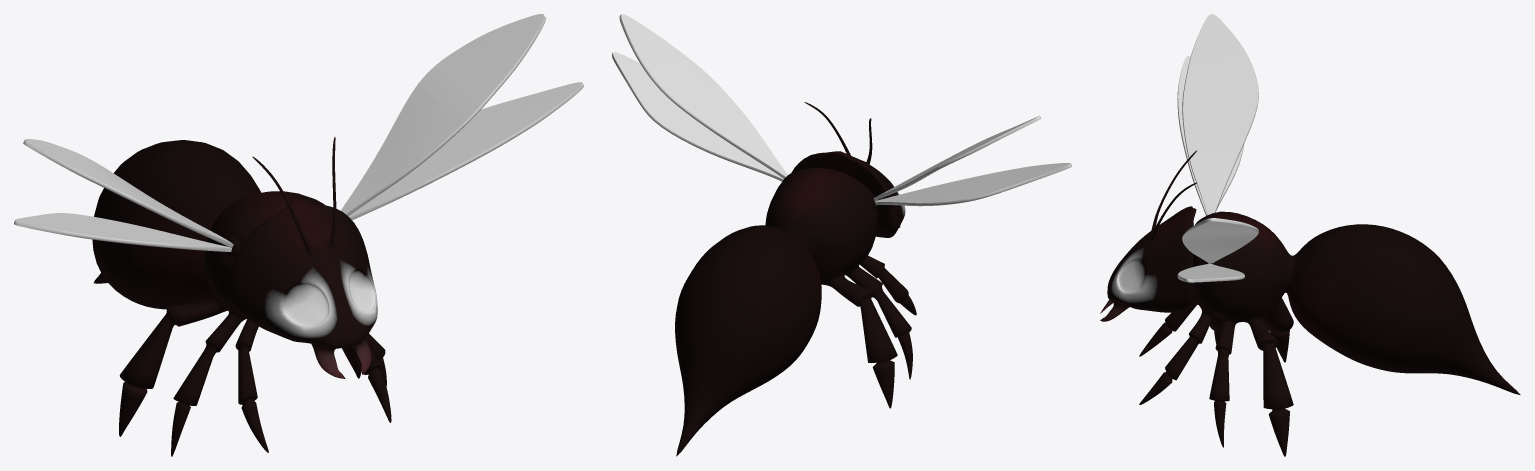
The model's file is Bee_Smol_hp.fbx.
3 views of the same model, side by side, from view 1: azimuth 30°, elevation 25°; view 2: azimuth 150°, elevation 25°; view 3: azimuth 270°, elevation 25° (orthographic). The views are drawn at different scales.
Parts seen in each view (by area): view 1: Bee_Smol; view 2: Bee_Smol; view 3: Bee_Smol.
Boxes of the visible parts, x1,y1,x2,y2 form: Bee_Smol: (14,14,583,456); Bee_Smol: (612,14,1071,456); Bee_Smol: (1100,14,1520,456).
Size of the model in its own units: 82.6 by 50.4 by 65.43.
